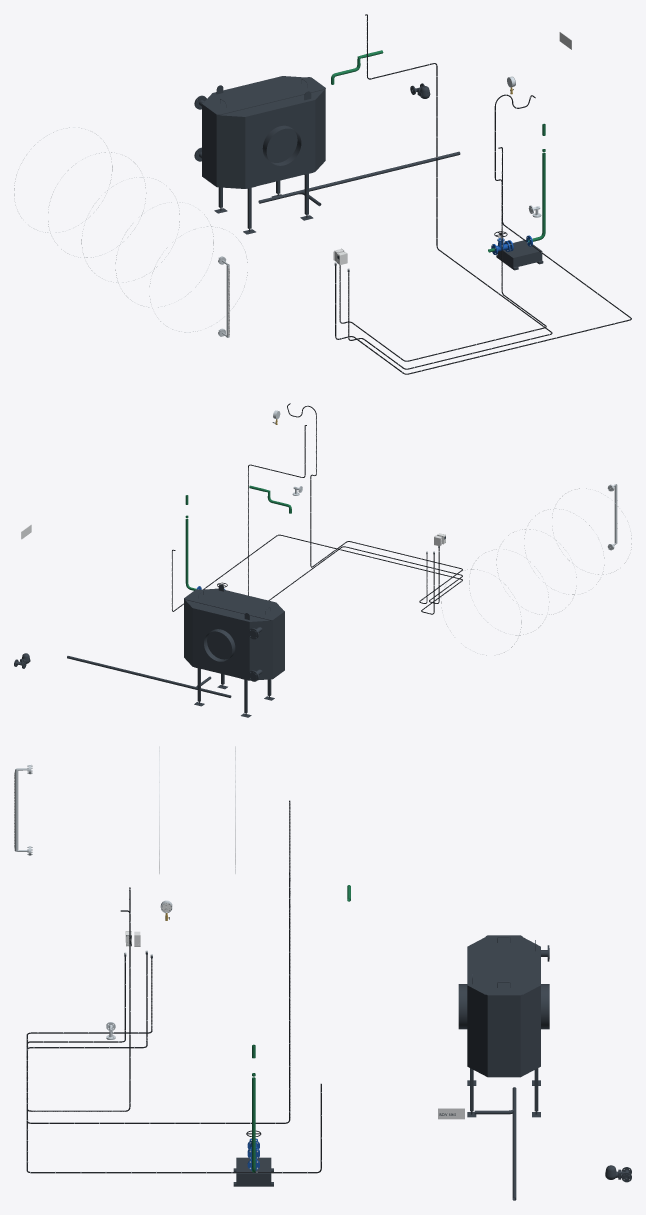
3 renders of one model, top to bottom at view 1: azimuth 30°, elevation 25°; view 2: azimuth 150°, elevation 25°; view 3: azimuth 270°, elevation 25°, orthographic. The views are drawn at different scales.
Parts seen in each view (by area): view 1: EQS2-4000 CAD 0, EQS2-4000 CAD 3, EQS2-4000 CAD 1, gpz_drive_cable / black, wiring_pressure_switch_2 / black, wiring_pump_2 / black, pump_branch_1 / dark, deaerator_details / steel, bottom_discharge / dark; view 2: EQS2-4000 CAD 0, EQS2-4000 CAD 3, EQS2-4000 CAD 2, gpz_drive_cable / black, wiring_pressure_switch_2 / black, wiring_pump_2 / black, deaerator_details / steel, bottom_discharge / dark; view 3: EQS2-4000 CAD 3, gpz_drive_cable / black, EQS2-4000 CAD 0, wiring_pump_2 / black, wiring_pressure_switch_2 / black, pump_branch_1 / dark, deaerator_details / steel.
Part boxes in pixels (x1=…): EQS2-4000 CAD 0: x1=214, y1=100, x2=315, y2=234; EQS2-4000 CAD 3: x1=202, y1=76, x2=325, y2=186; EQS2-4000 CAD 1: x1=216, y1=115, x2=245, y2=188; gpz_drive_cable / black: x1=348, y1=14, x2=552, y2=369; wiring_pressure_switch_2 / black: x1=339, y1=94, x2=546, y2=361; wiring_pump_2 / black: x1=335, y1=147, x2=631, y2=374; pump_branch_1 / dark: x1=496, y1=240, x2=543, y2=270; deaerator_details / steel: x1=14, y1=127, x2=247, y2=337; bottom_discharge / dark: x1=259, y1=151, x2=460, y2=203; EQS2-4000 CAD 0: x1=192, y1=608, x2=274, y2=717; EQS2-4000 CAD 3: x1=184, y1=584, x2=284, y2=678; EQS2-4000 CAD 2: x1=248, y1=620, x2=272, y2=681; gpz_drive_cable / black: x1=248, y1=425, x2=462, y2=603; wiring_pressure_switch_2 / black: x1=287, y1=403, x2=462, y2=603; wiring_pump_2 / black: x1=172, y1=534, x2=462, y2=614; deaerator_details / steel: x1=441, y1=484, x2=631, y2=655; bottom_discharge / dark: x1=67, y1=656, x2=230, y2=697; EQS2-4000 CAD 3: x1=467, y1=935, x2=540, y2=1077; gpz_drive_cable / black: x1=26, y1=800, x2=290, y2=1123; EQS2-4000 CAD 0: x1=458, y1=984, x2=549, y2=1117; wiring_pump_2 / black: x1=26, y1=954, x2=321, y2=1173; wiring_pressure_switch_2 / black: x1=26, y1=887, x2=152, y2=1111; pump_branch_1 / dark: x1=233, y1=1157, x2=273, y2=1186; deaerator_details / steel: x1=14, y1=746, x2=235, y2=873.
Size of the model in its own units: 8.4 by 3.71 by 6.88.
